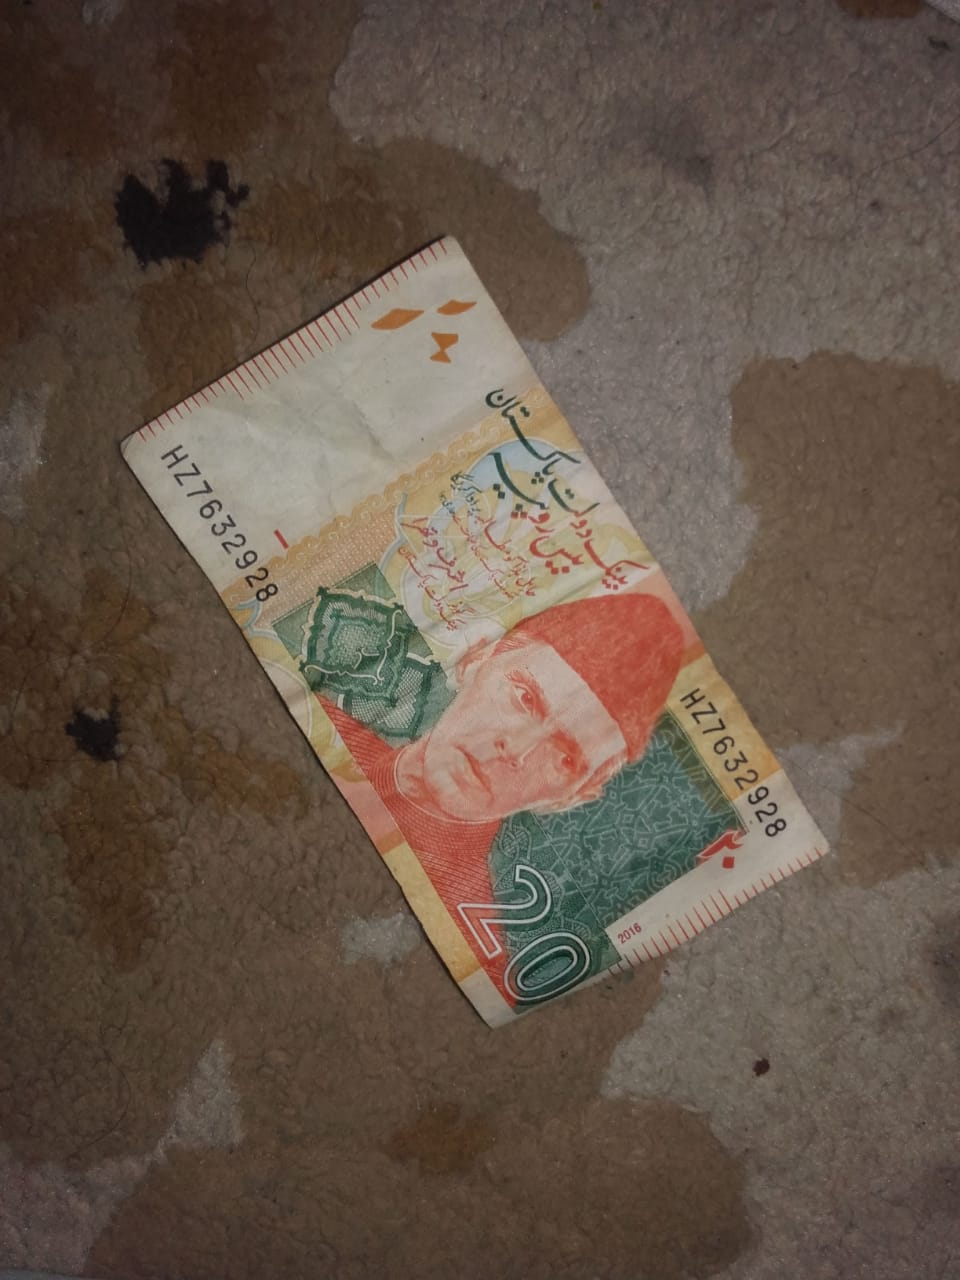20 rupee: (126, 212, 853, 1114)
